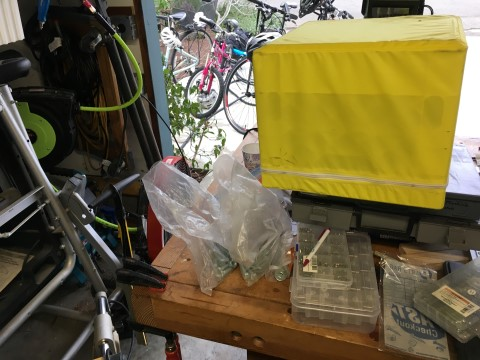cube: (252, 14, 468, 209)
